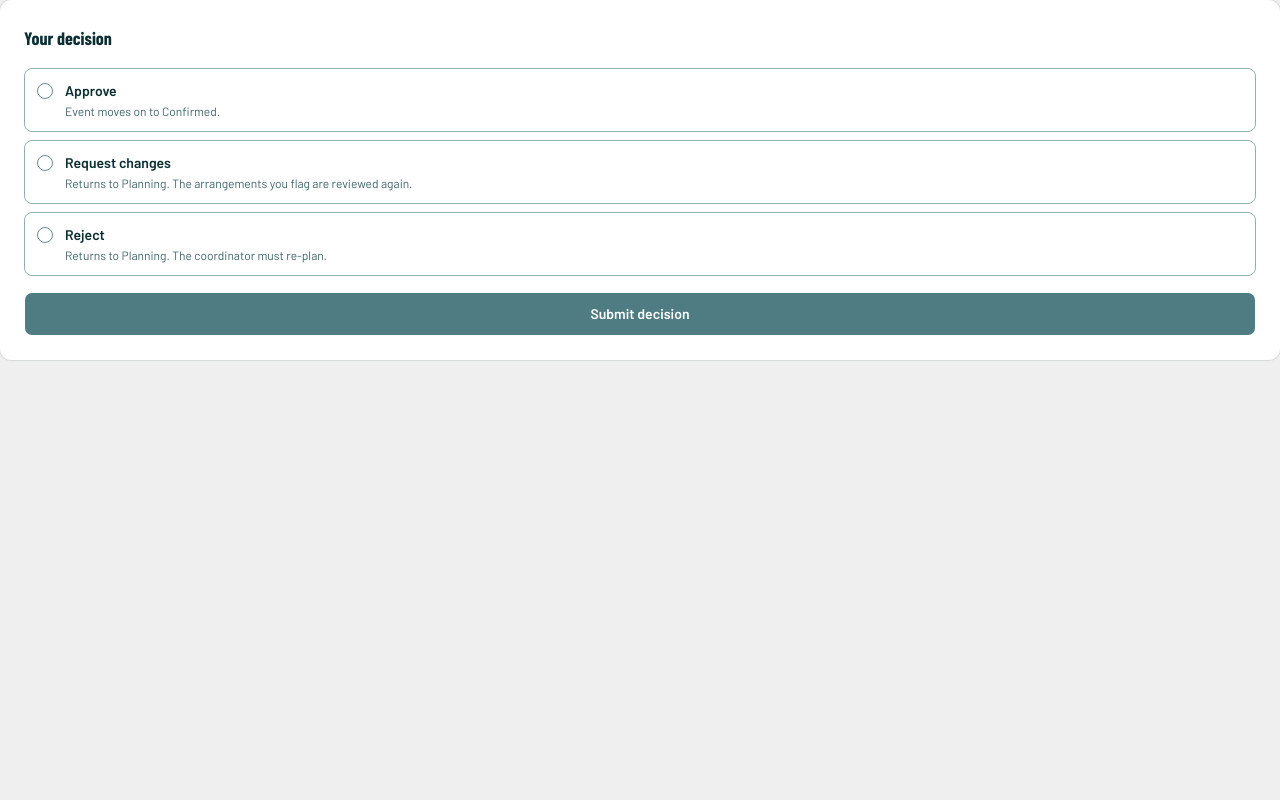
Test: SCRUM-99/AC5 + AC8 approve an event › SCRUM-99/AC8 shows the recorded Safety Officer, date and time, and comments
Click the radio button next to "Request changes".
click(45, 163)  # box [37,155,53,171]
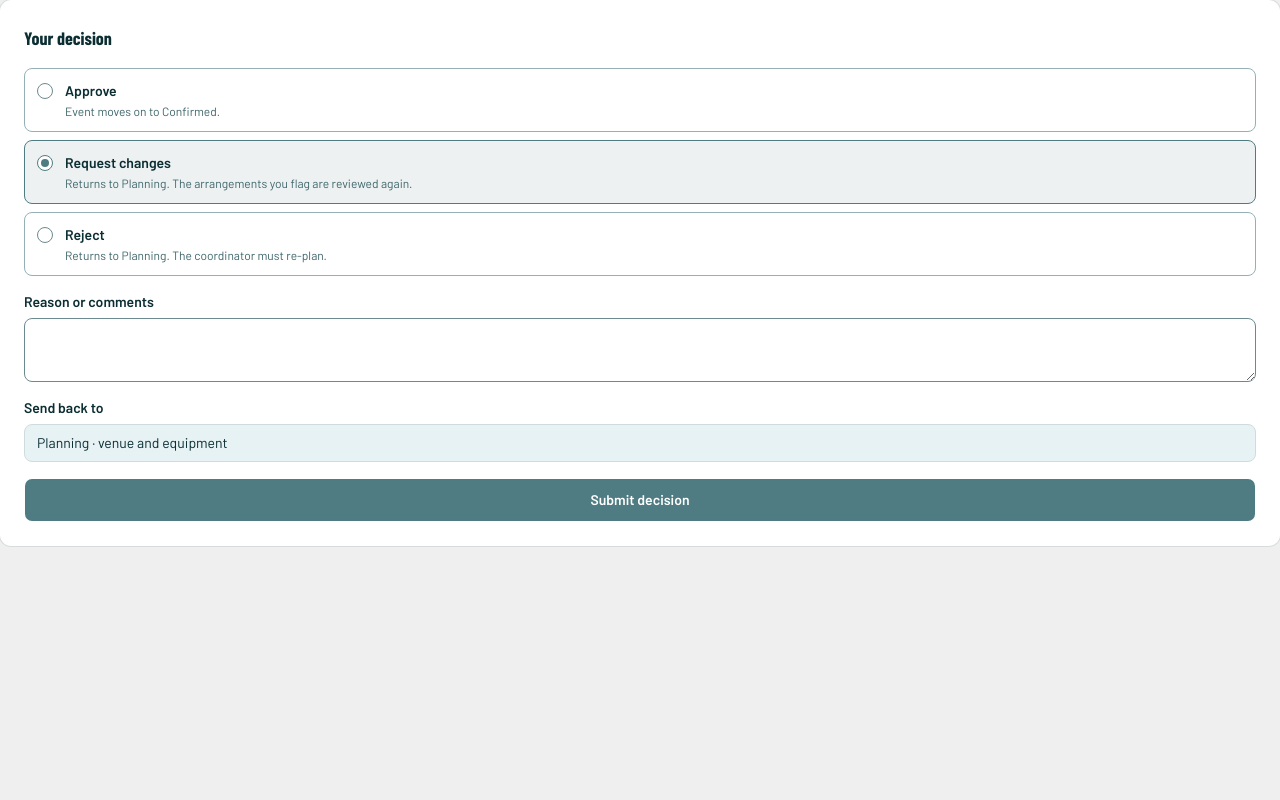
Type "Move the PA away from the east exit" into the text box labelled "Reason or comments".
click(640, 350); type("Move the PA away from the east exit")  # box [24,318,1256,382]
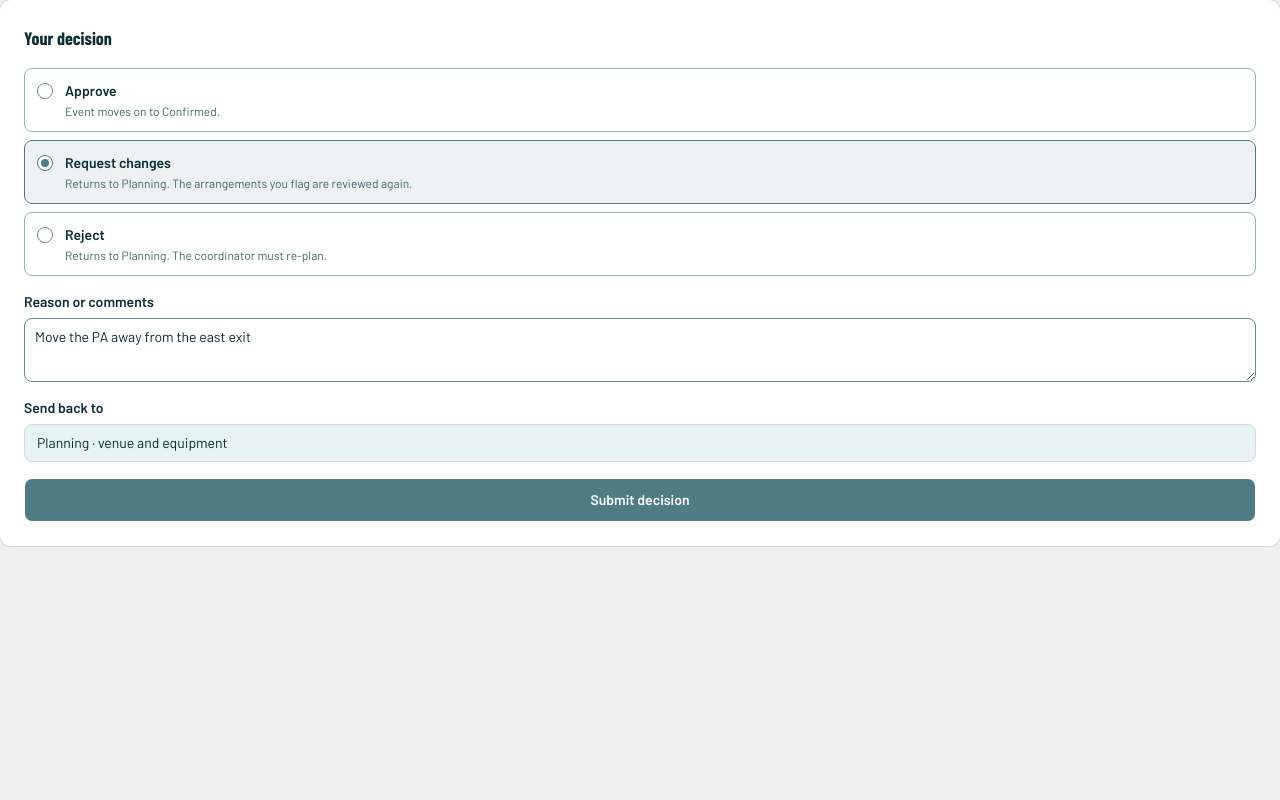
Click the button "Submit decision".
click(640, 500)  # box [24,478,1256,522]
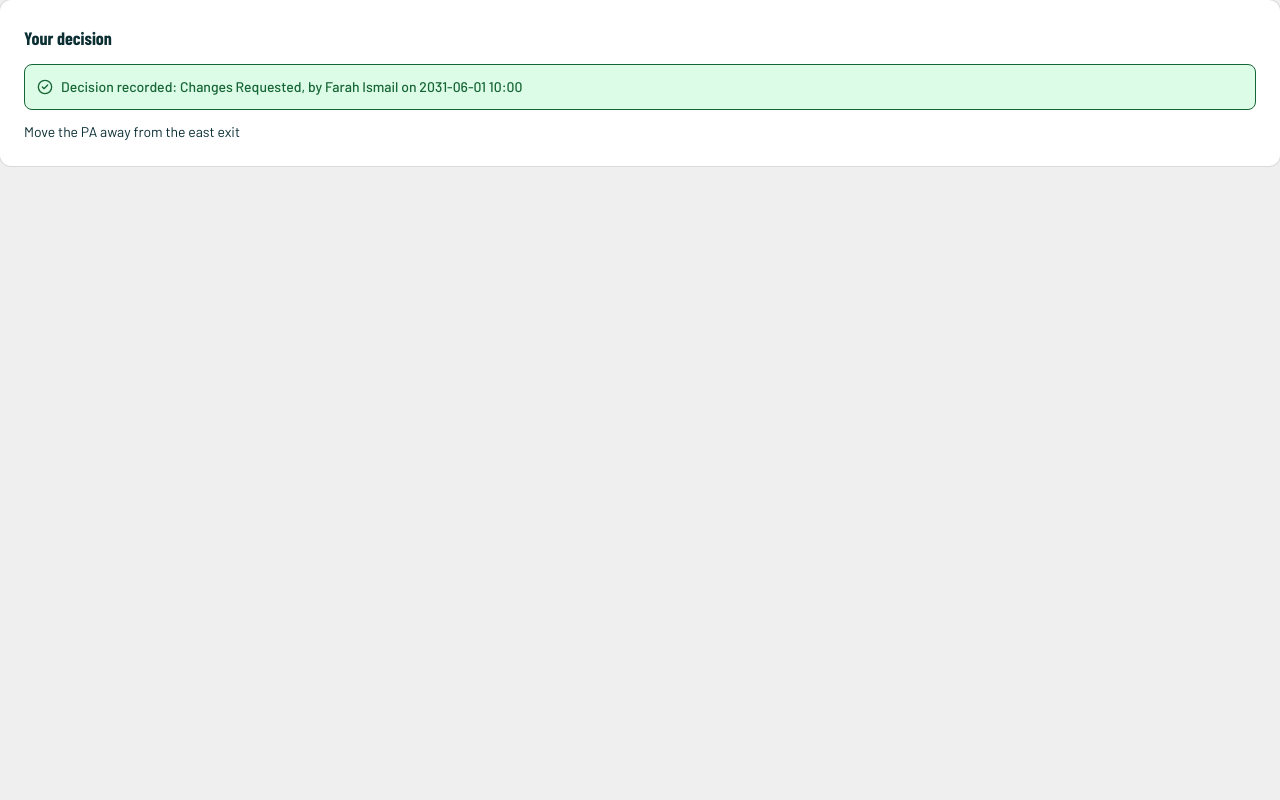
expect the message shows "Changes Requested": met, box [61,78,522,95]
expect the message shows "by Farah Ismail on 2031-06-01 10:00": met, box [61,78,522,95]
expect the text "Move the PA away from the east exit" is shown: met, box [24,123,240,140]
